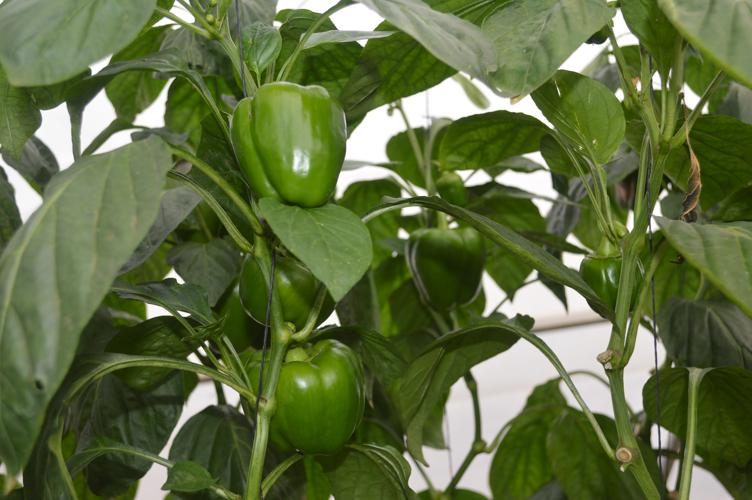BellPepper: (226, 82, 347, 210), (241, 339, 363, 451), (242, 255, 331, 331), (403, 226, 482, 307), (570, 257, 651, 319), (207, 283, 257, 348)
